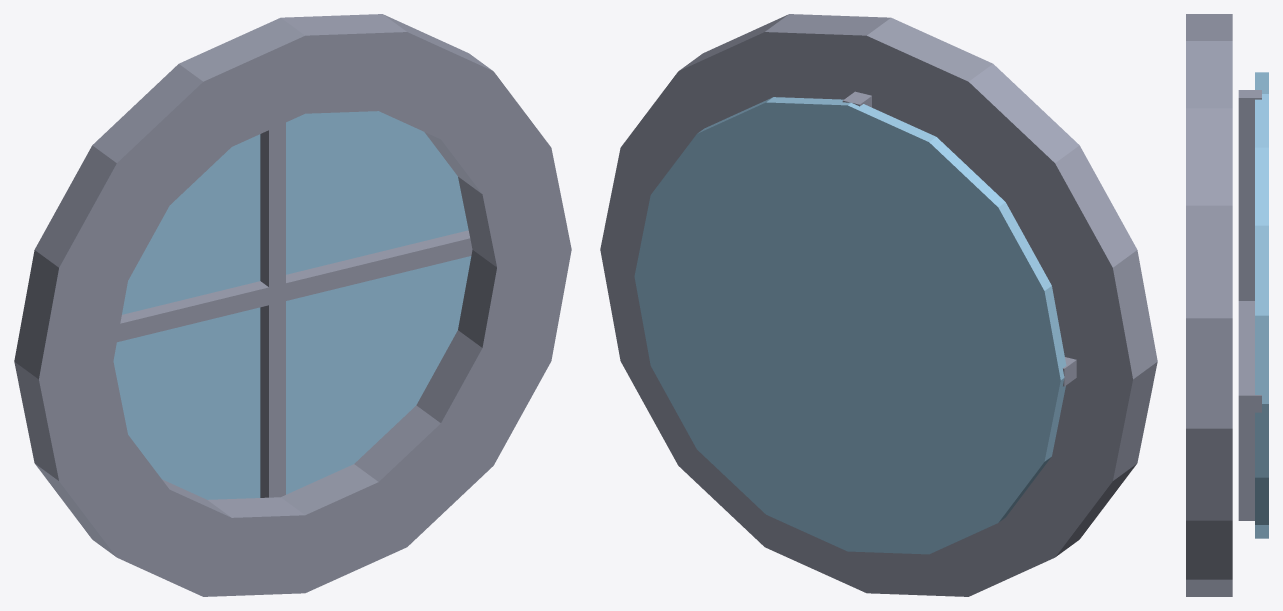
Rendered from window-round.glb.
The picture shows the model from 3 angles, left to right: view 1: azimuth 30°, elevation 25°; view 2: azimuth 150°, elevation 25°; view 3: azimuth 270°, elevation 25°; orthographic projection. The views are drawn at different scales.
Parts seen in each view (by area): view 1: window-round; view 2: window-round; view 3: window-round.
Boxes of the visible parts, x1,y1,x2,y2 form: window-round: [14, 14, 571, 596]; window-round: [600, 14, 1157, 596]; window-round: [1186, 14, 1268, 596].
Bounding box in the file's own units: 0.5 × 0.5 × 0.071.
Materials: 1 (1 with a texture image).
